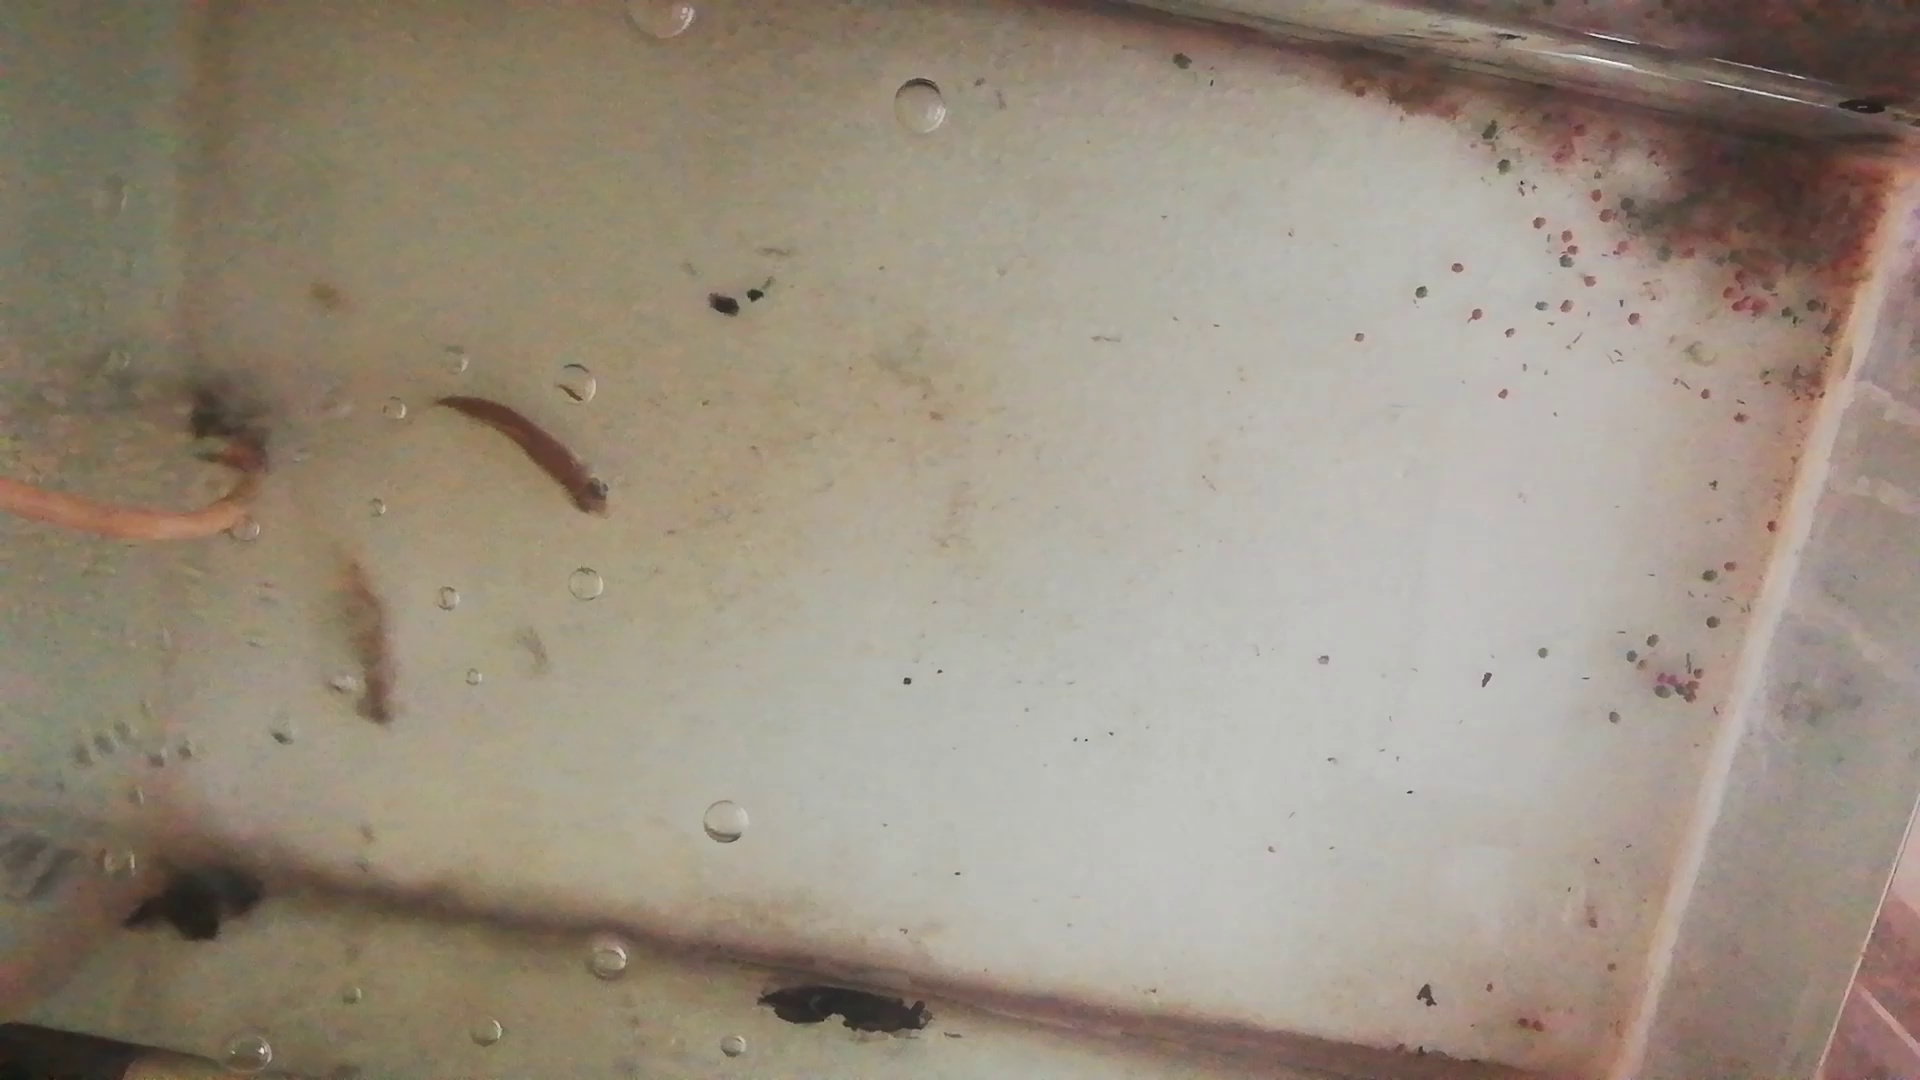fish: (429, 396, 611, 516), (331, 542, 398, 729)
